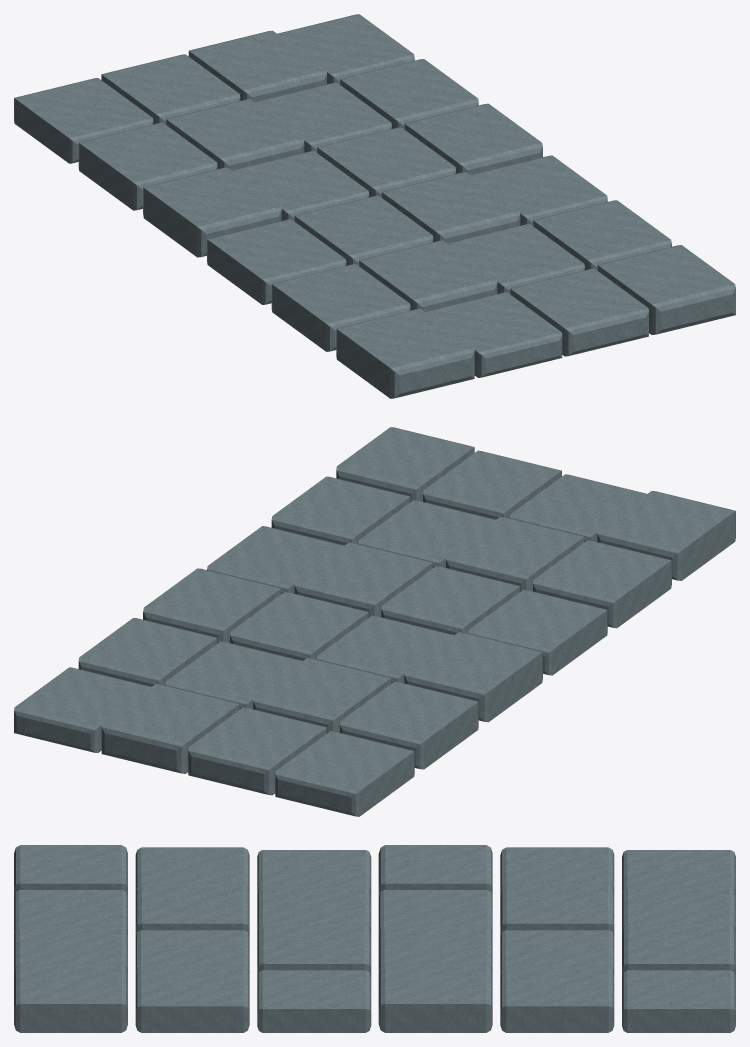
File: hollowwick-halloween-cobbled-path-tile-c5798ce3__21637.glb
3 views of the same model, one above another, from view 1: azimuth 30°, elevation 25°; view 2: azimuth 150°, elevation 25°; view 3: azimuth 270°, elevation 25° (orthographic). The views are drawn at different scales.
Parts seen in each view (by area): view 1: cobbled-path-tile; view 2: cobbled-path-tile; view 3: cobbled-path-tile.
Boxes of the visible parts, x1,y1,x2,y2 form: cobbled-path-tile: [14, 14, 735, 398]; cobbled-path-tile: [14, 427, 735, 816]; cobbled-path-tile: [14, 845, 735, 1032].
Bounding box in the file's own units: 0.99 × 0.084 × 1.9.
Materials: 1 (1 with a texture image).
